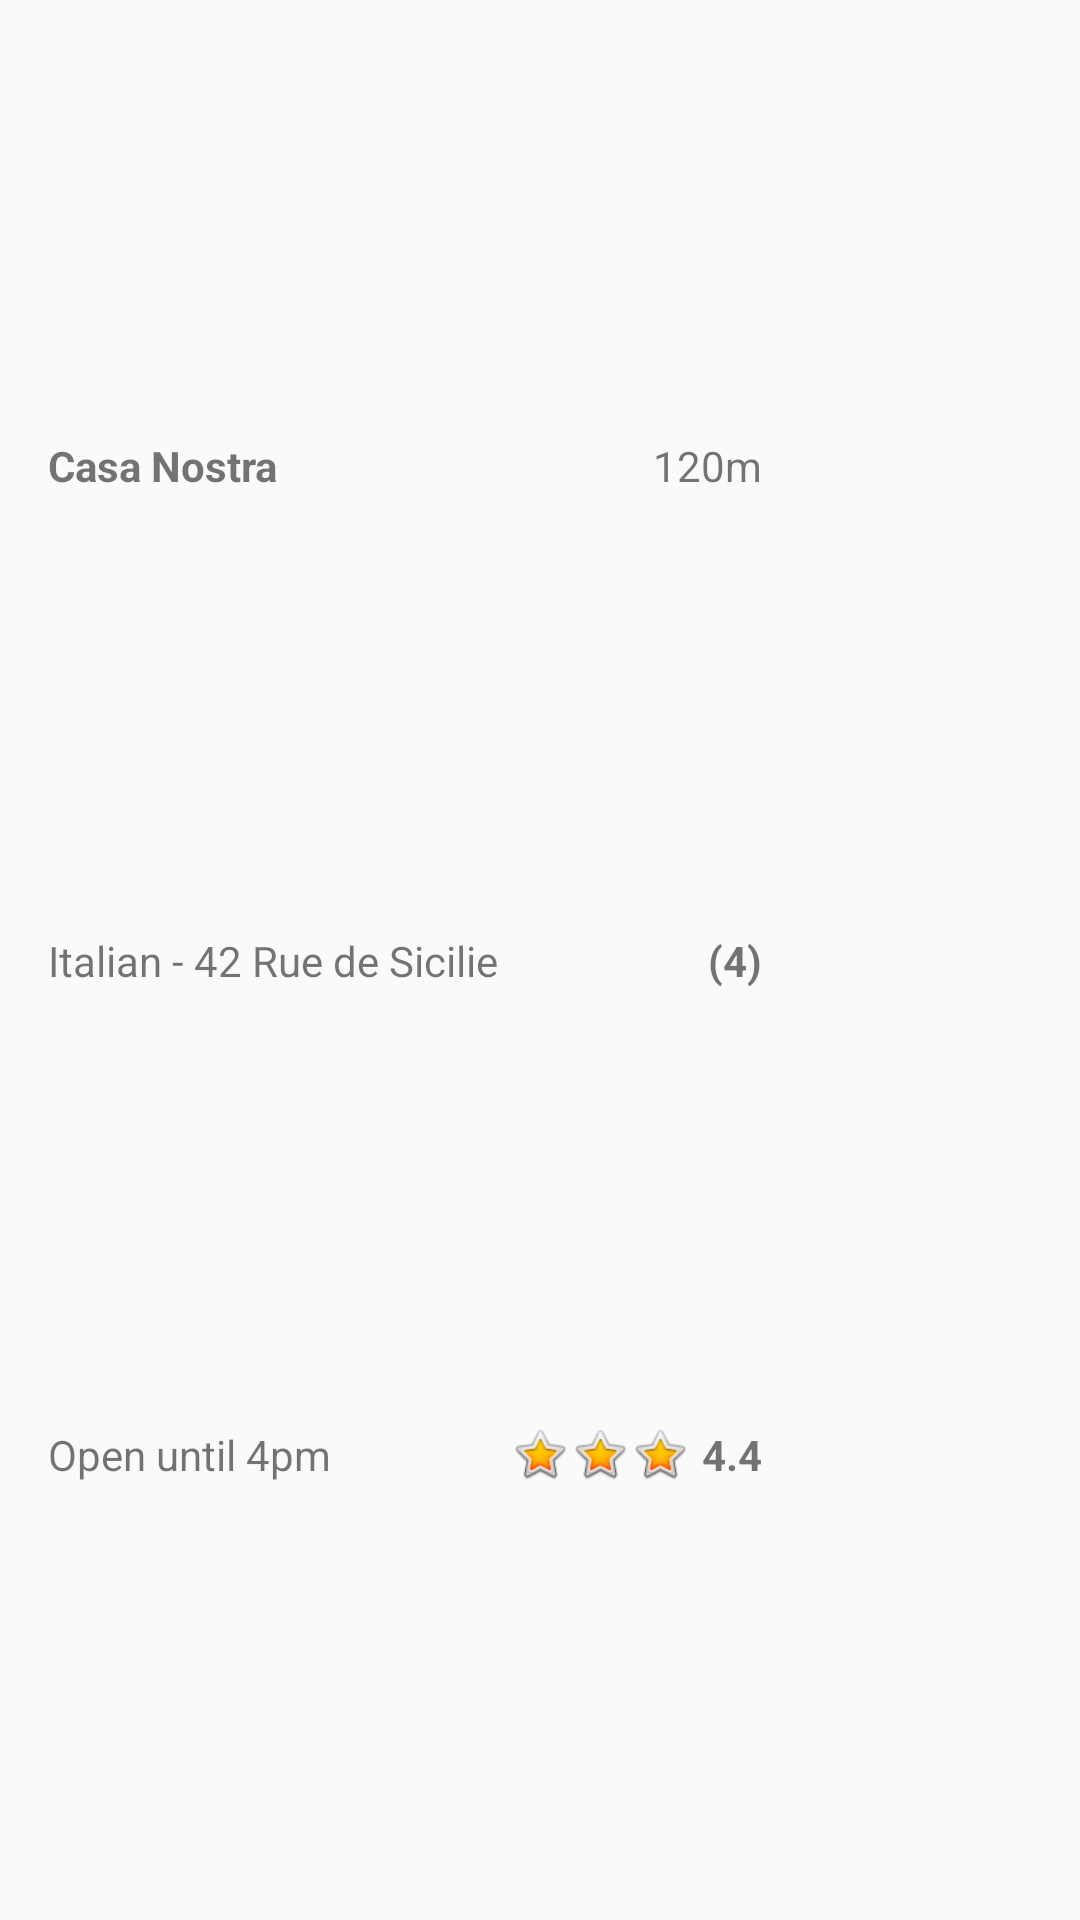

Where to tap for icons on this 1080 × 1920 app screen, as (x,y):
star on: (540,1454), (600,1454), (660,1454)
